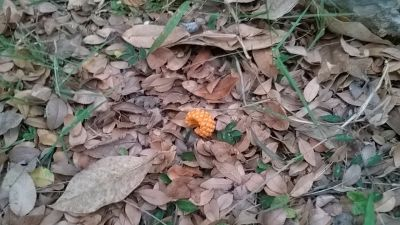eggs: (186, 107, 215, 137)
